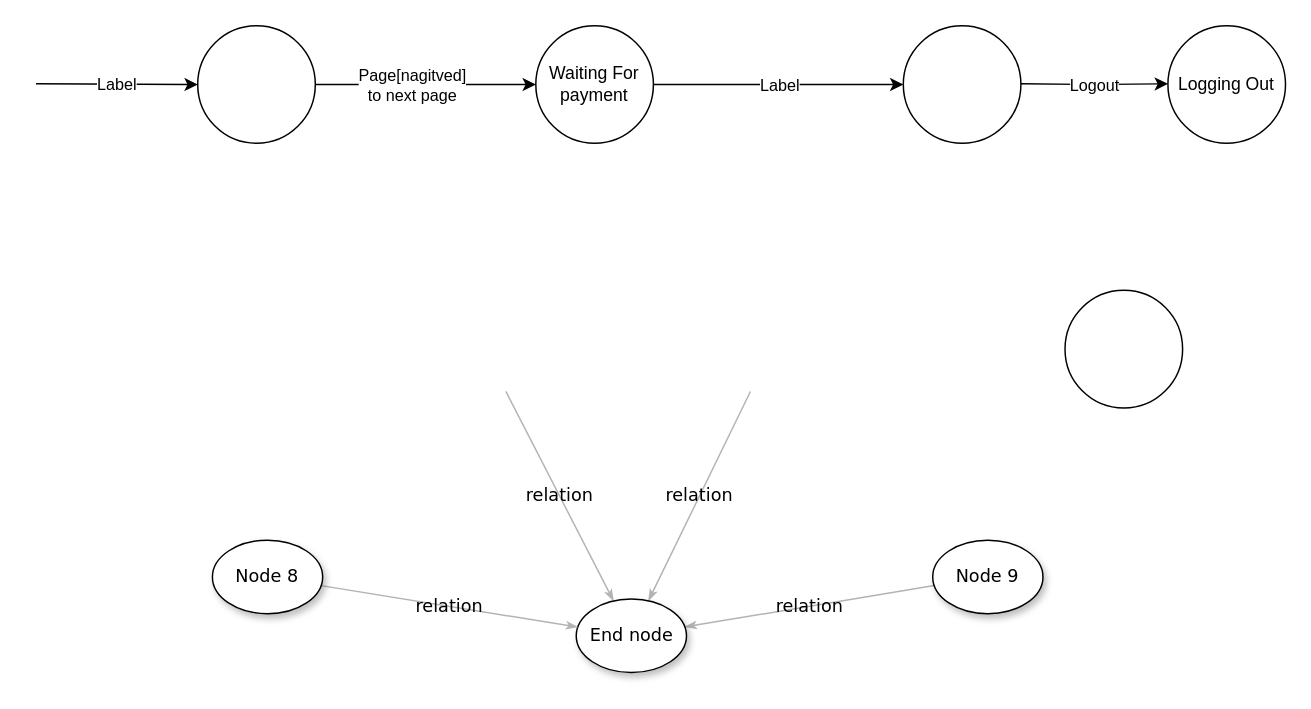
Image size: 1311x709. Some labels were removed from this diagram. The centre of each missing label's shape, as x and y in pixels:
"Using" goes at pixel 961 83.
"Welcoming" goes at pixel 255 83.
